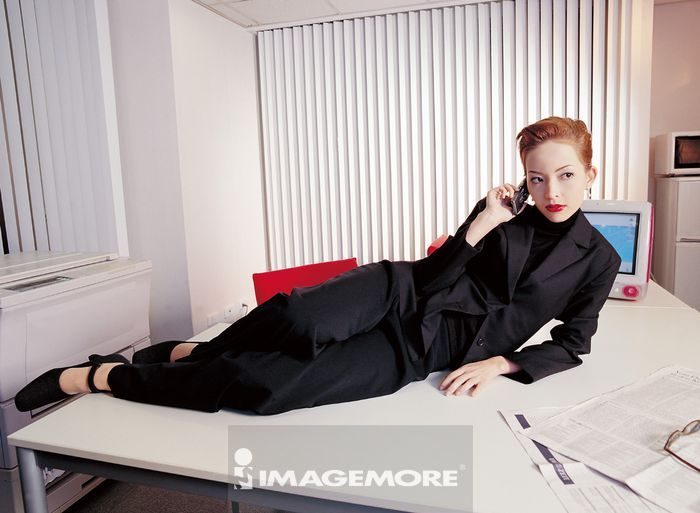talk: (478, 160, 581, 229)
